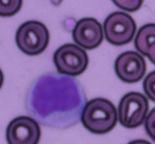M: (22, 72, 87, 128)
